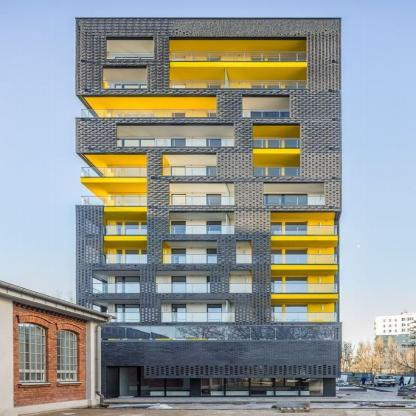Balcony: (80, 327, 340, 341), (80, 283, 340, 293), (80, 254, 340, 264), (80, 225, 340, 235), (80, 196, 340, 206), (80, 167, 340, 177), (80, 52, 340, 61), (80, 138, 340, 147), (80, 109, 340, 118), (80, 313, 340, 322), (80, 81, 340, 89)
Building Outline: (74, 17, 344, 400)
Door: (120, 368, 139, 396)
Facade: (74, 17, 344, 400)
Floor Slab: (80, 177, 340, 182), (80, 148, 340, 153), (80, 118, 340, 123), (80, 89, 340, 94), (80, 206, 340, 211), (80, 236, 340, 241), (80, 265, 340, 270), (80, 294, 340, 299), (80, 62, 340, 67), (80, 322, 340, 326)
Glass Wall: (201, 368, 323, 396), (140, 368, 191, 396)
Window: (252, 304, 307, 322), (252, 85, 307, 103), (252, 112, 307, 130), (252, 139, 307, 157), (252, 167, 307, 185), (252, 194, 307, 212), (252, 222, 307, 240), (252, 250, 307, 267), (252, 277, 307, 294), (252, 59, 307, 76), (117, 304, 154, 322), (117, 112, 154, 130), (117, 85, 154, 103), (117, 139, 154, 157), (117, 167, 154, 185), (117, 194, 154, 212), (117, 222, 154, 240), (117, 59, 154, 76), (117, 250, 154, 267), (117, 277, 154, 294), (208, 304, 221, 322), (208, 222, 221, 240), (208, 194, 221, 212), (208, 167, 221, 185), (208, 139, 221, 157), (208, 112, 221, 130), (208, 85, 221, 103), (208, 277, 221, 294), (208, 250, 221, 267), (208, 59, 221, 76), (173, 112, 185, 130), (173, 139, 185, 157), (173, 167, 185, 185), (173, 194, 185, 212), (173, 222, 185, 240), (173, 85, 185, 103), (173, 304, 185, 322), (173, 59, 185, 76), (173, 250, 185, 267), (173, 277, 185, 294)
